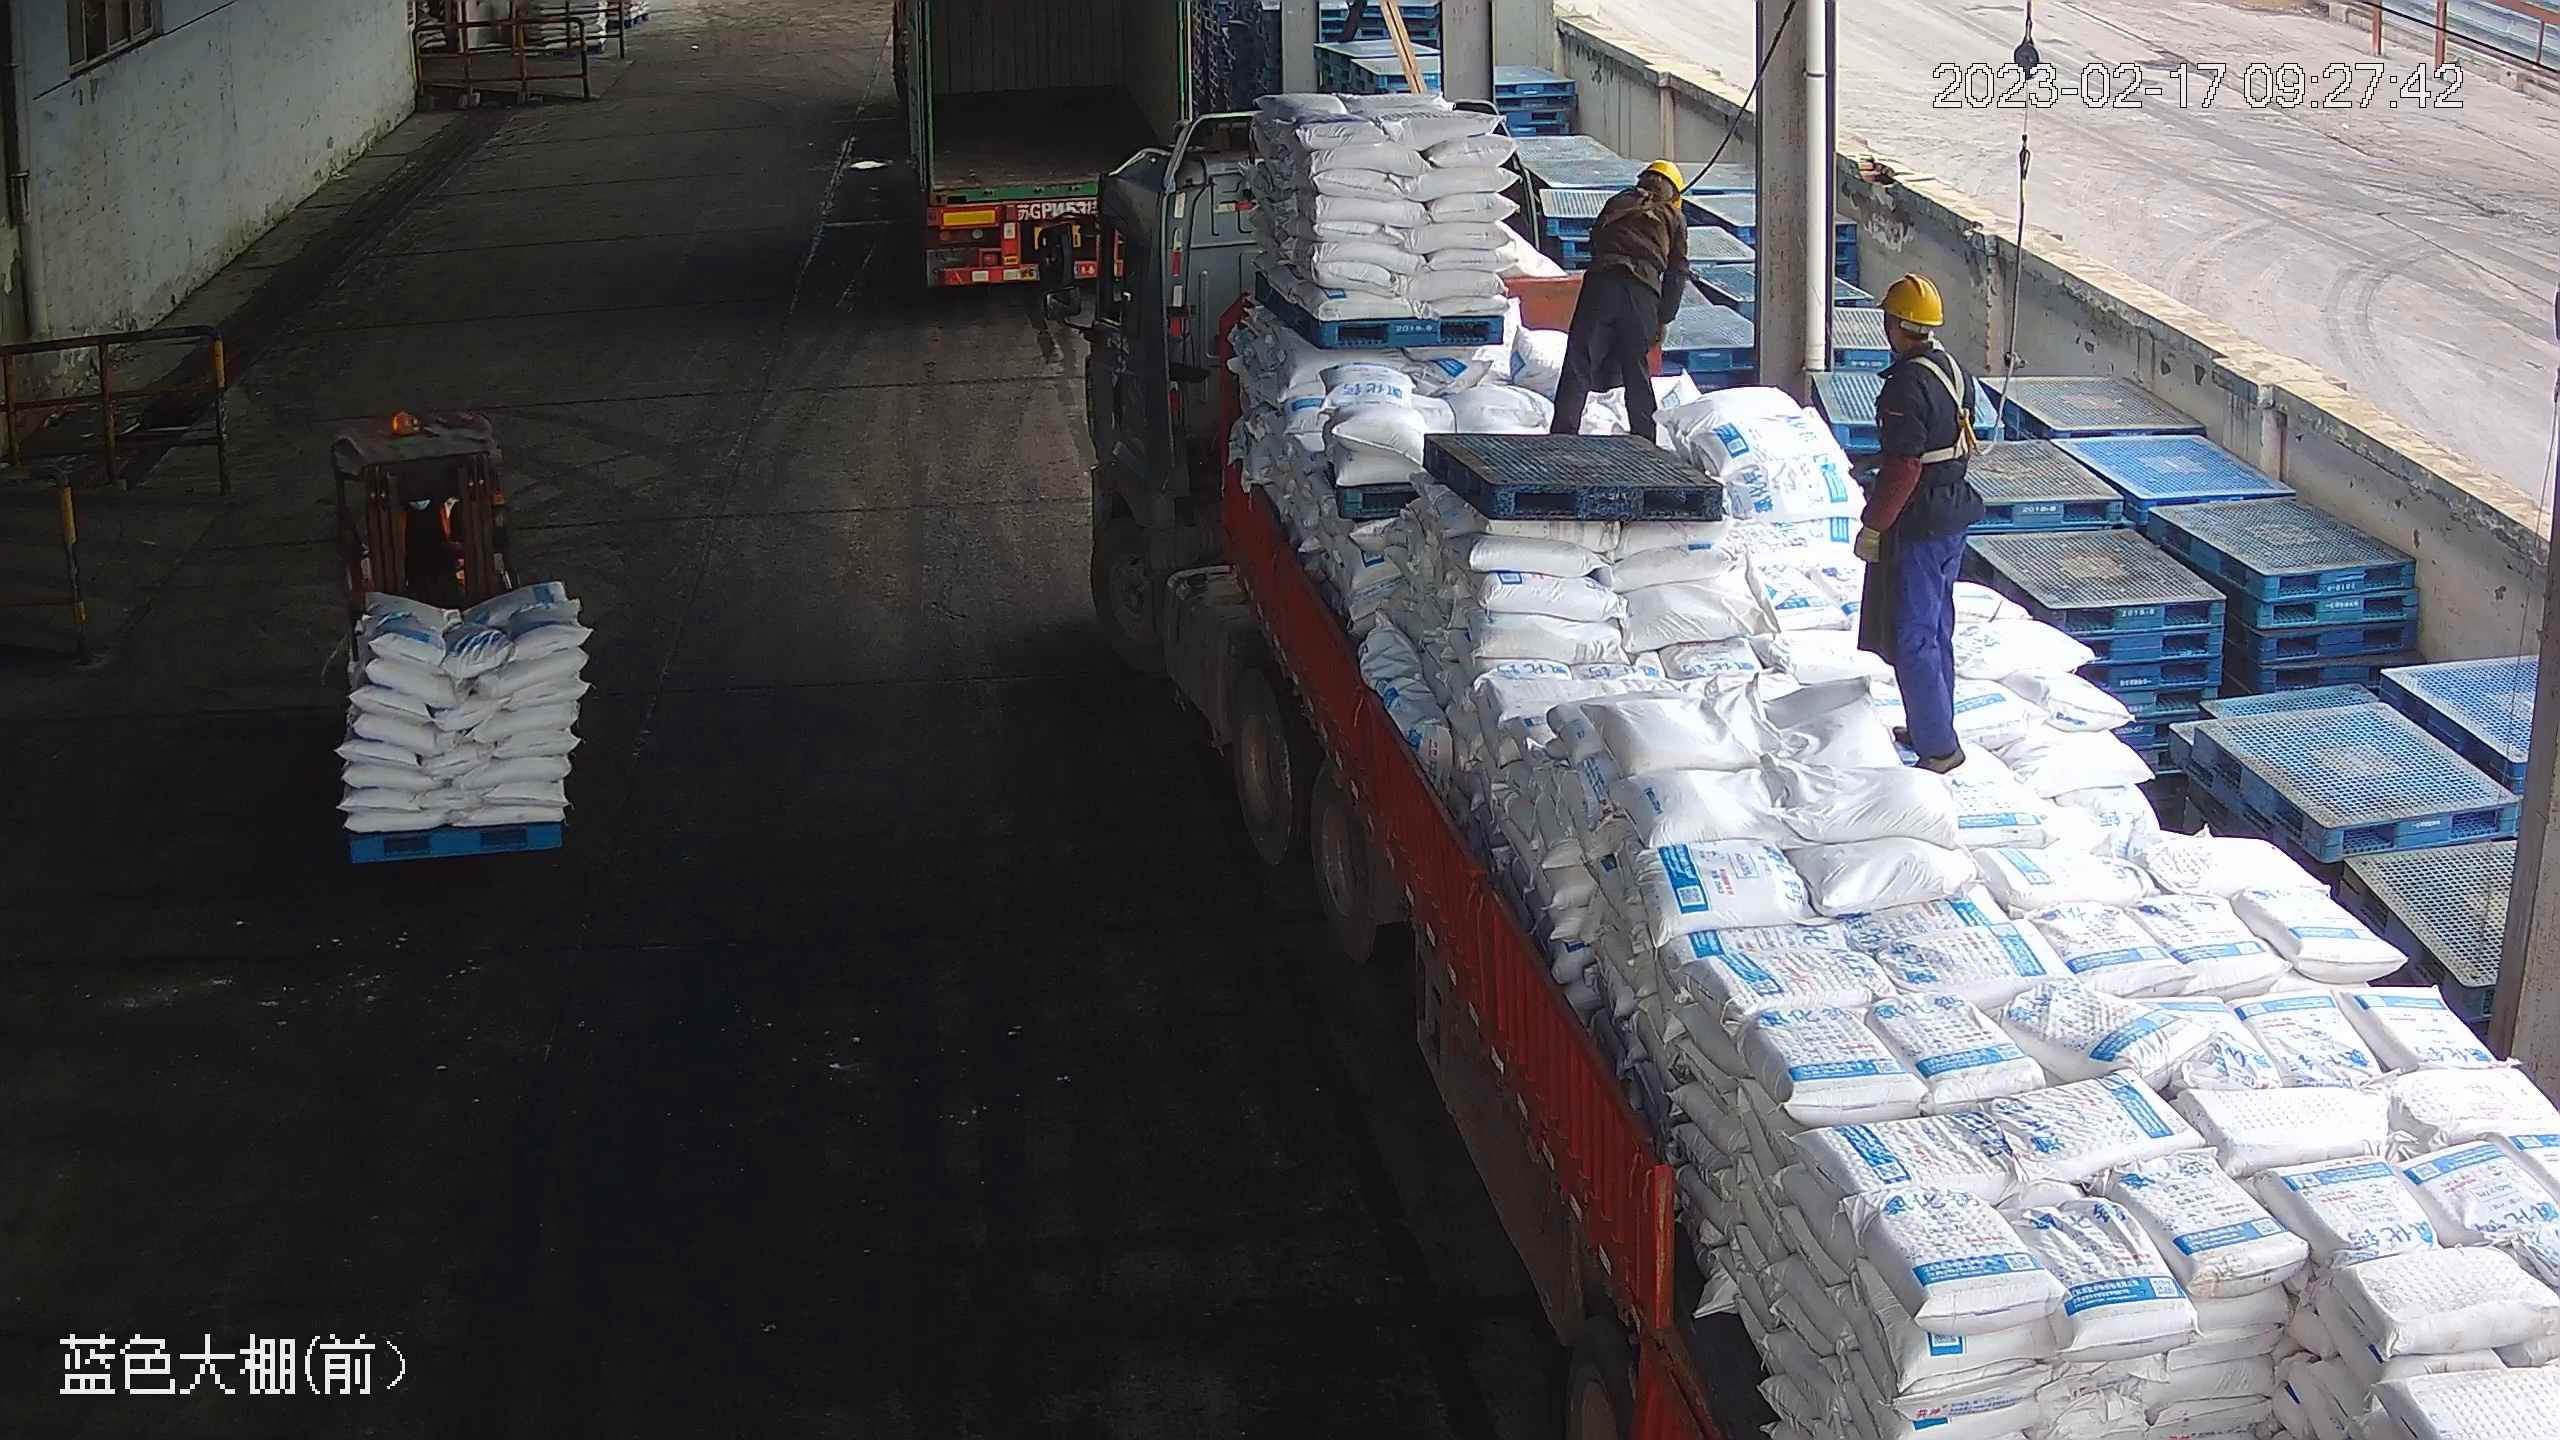belt: (1901, 350, 1990, 466), (1604, 194, 1680, 270)
head: (1863, 269, 1979, 414), (1590, 157, 1689, 246)
helmet: (1876, 269, 1945, 324), (1638, 158, 1686, 206)
people: (1846, 266, 1981, 778), (1548, 154, 1688, 437)
truck: (1043, 95, 2549, 1437), (890, 1, 1201, 298)
